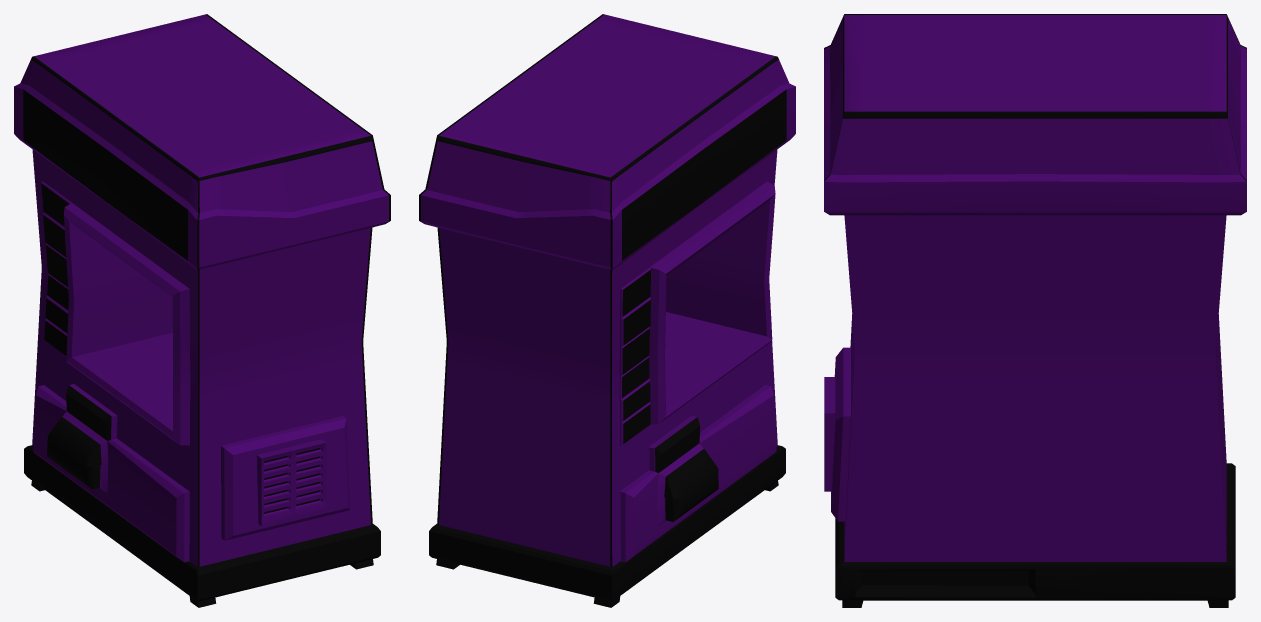
The model's file is vendin.fbx.
The picture shows the model from 3 angles, left to right: view 1: azimuth 30°, elevation 25°; view 2: azimuth 150°, elevation 25°; view 3: azimuth 270°, elevation 25°; orthographic projection. The views are drawn at different scales.
Parts seen in each view (by area): view 1: pCube7; view 2: pCube7; view 3: pCube7.
Boxes of the visible parts, x1,y1,x2,y2 form: pCube7: (14, 14, 390, 607); pCube7: (419, 14, 795, 607); pCube7: (824, 14, 1246, 607).
Size of the model in its own units: 2.73 by 5.29 by 4.09.
